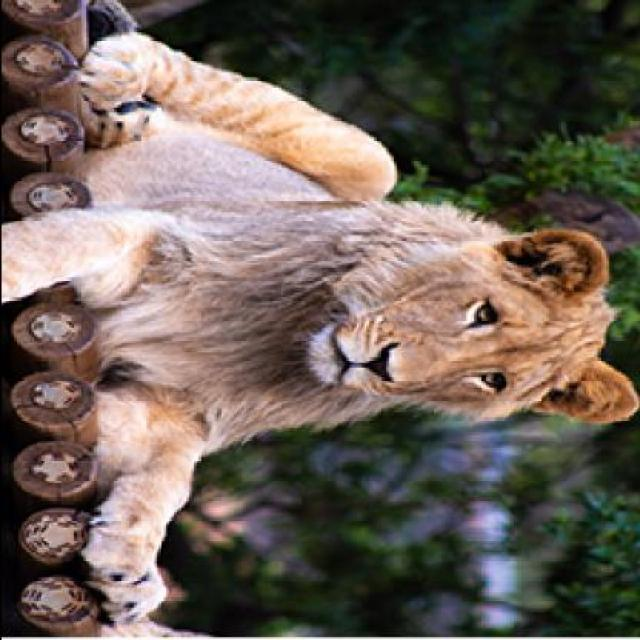Lion: (3, 11, 639, 638)
